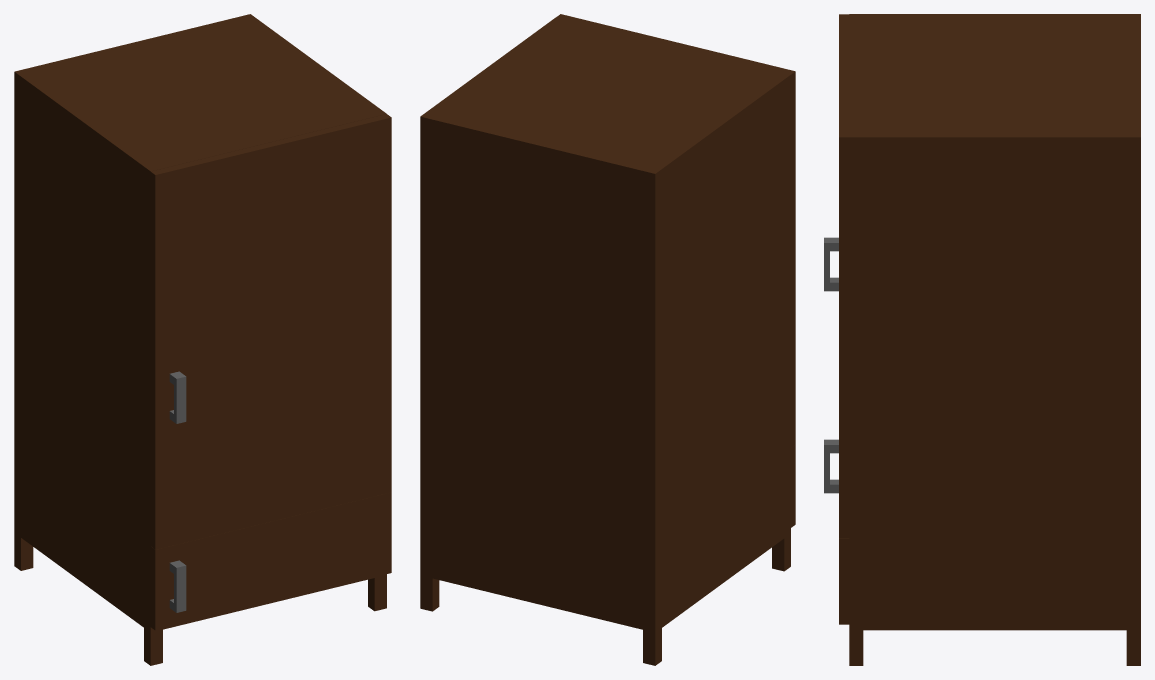
Rendered from closet.glb.
3 views of the same model, side by side, from view 1: azimuth 30°, elevation 25°; view 2: azimuth 150°, elevation 25°; view 3: azimuth 270°, elevation 25° (orthographic). The views are drawn at different scales.
Visible parts, largest first — view 1: Cube.003_0; view 2: Cube.003_0; view 3: Cube.003_0.
Boxes of the visible parts, x1=… form: Cube.003_0: x1=14, y1=14, x2=391, y2=665; Cube.003_0: x1=420, y1=14, x2=795, y2=665; Cube.003_0: x1=824, y1=14, x2=1140, y2=665.
Size of the model in its own units: 2 by 4 by 2.17.
1 material, 1 textured.
